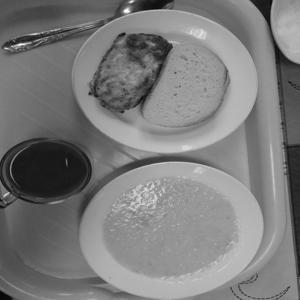bread: (145, 38, 234, 139)
cheese_sandwich: (88, 23, 172, 119)
coffee: (0, 129, 96, 219)
porridge: (88, 162, 256, 281)
